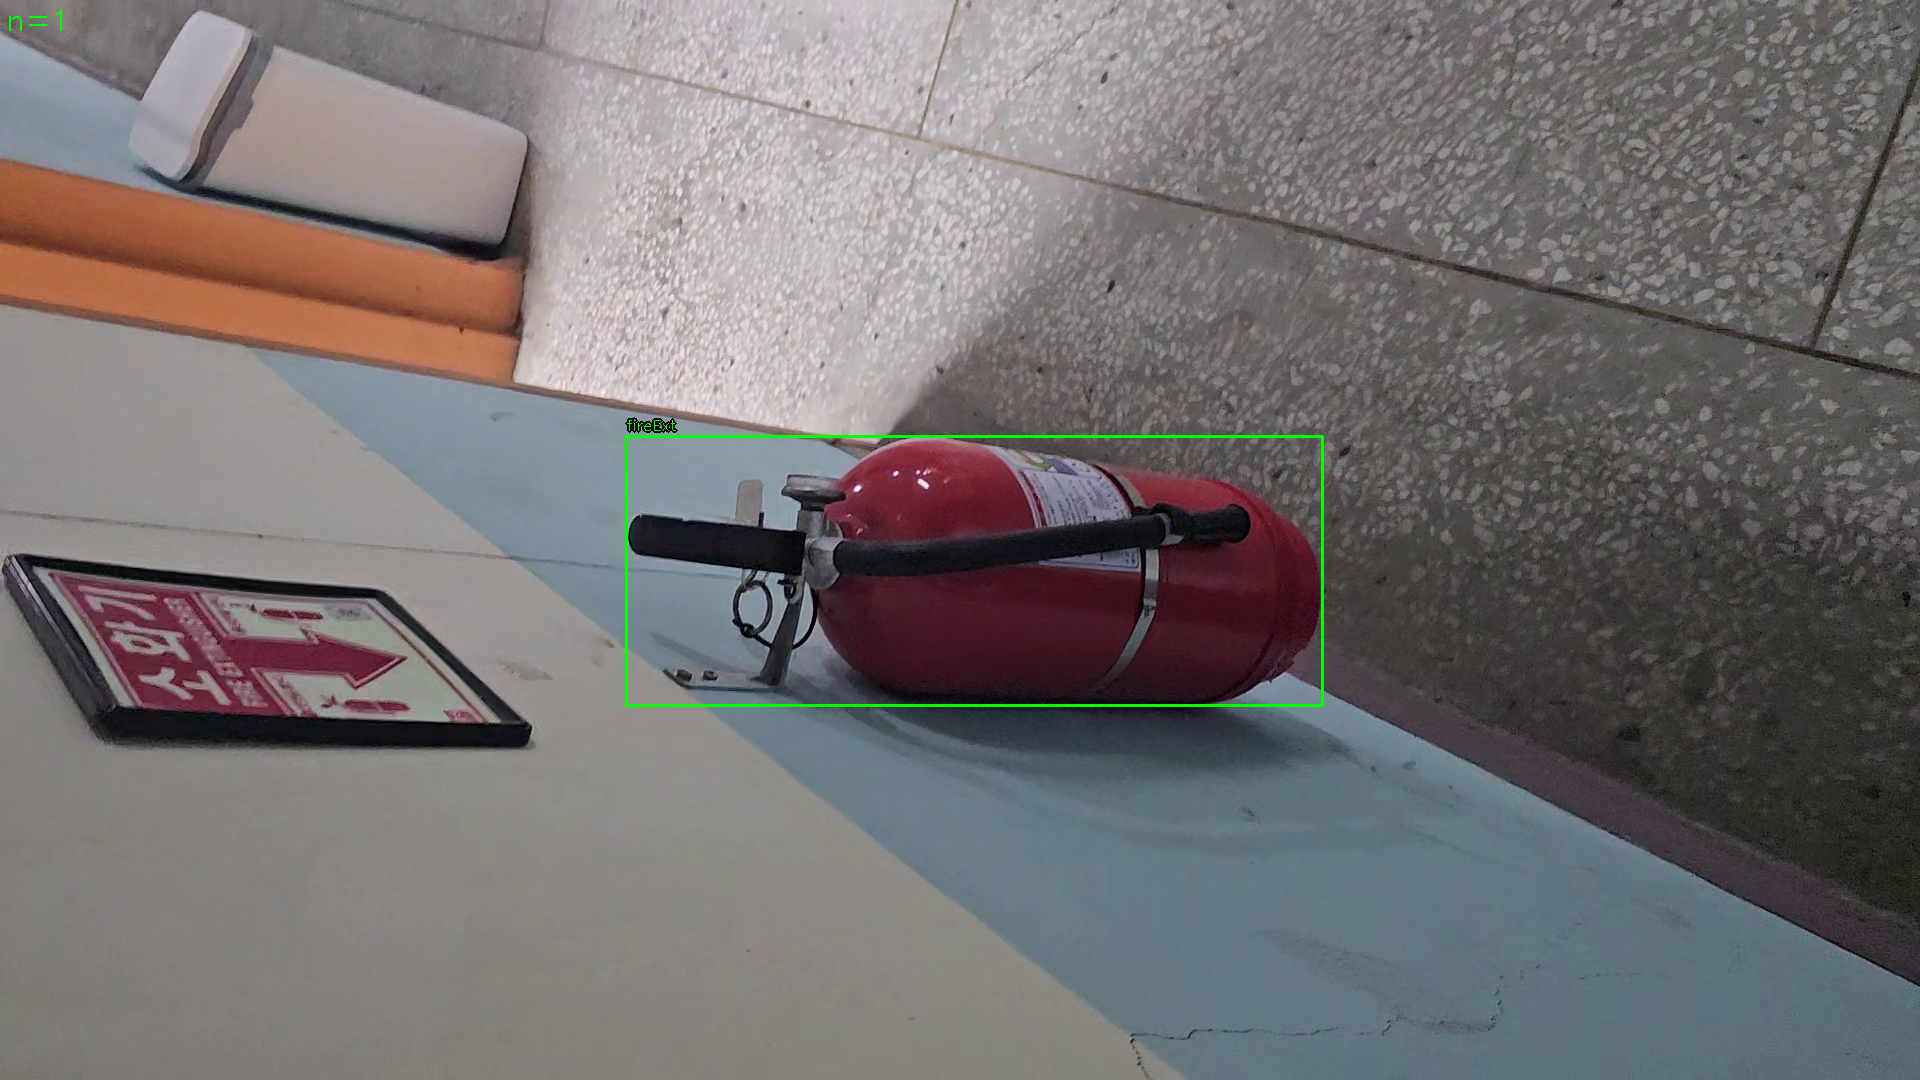lane: (626, 436, 1323, 705)
